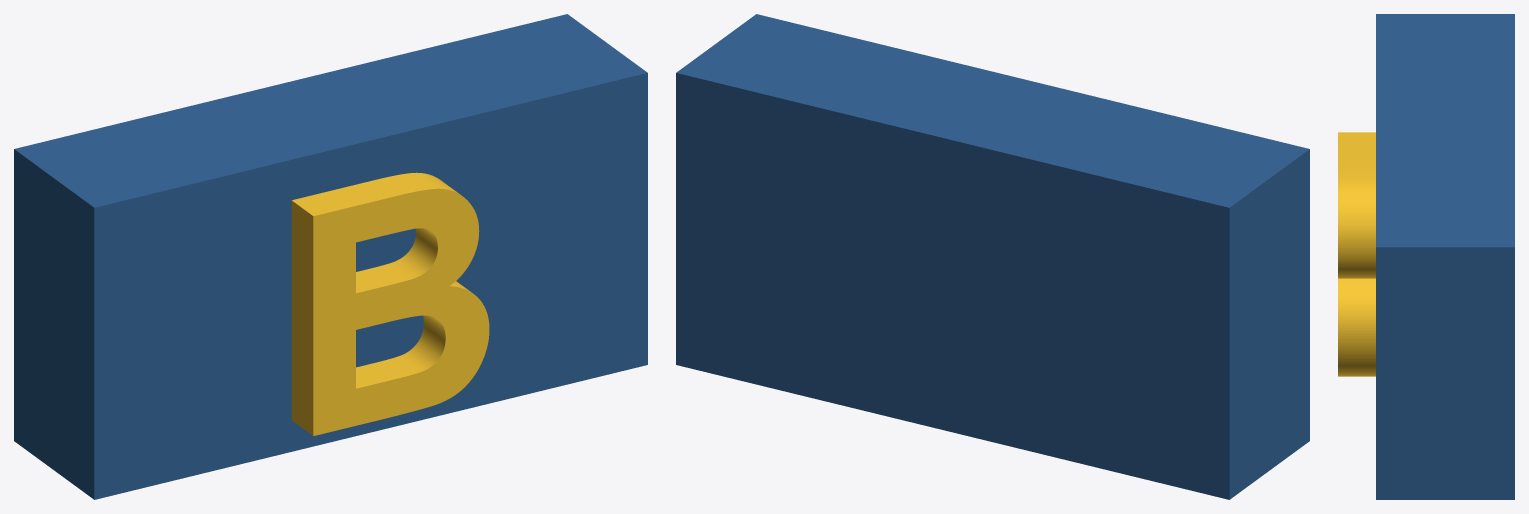
3 renders of one model, left to right at view 1: azimuth 30°, elevation 25°; view 2: azimuth 150°, elevation 25°; view 3: azimuth 270°, elevation 25°, orthographic. The views are drawn at different scales.
Parts seen in each view (by area): view 1: Cube.001, Text.004; view 2: Cube.001; view 3: Cube.001, Text.004.
Boxes of the visible parts, bbox=[...] form: Cube.001: bbox=[14, 14, 647, 499]; Text.004: bbox=[291, 172, 489, 435]; Cube.001: bbox=[676, 14, 1309, 499]; Cube.001: bbox=[1376, 14, 1514, 499]; Text.004: bbox=[1338, 132, 1375, 376].
Size of the model in its own units: 1.32 by 0.6639 by 0.421.
